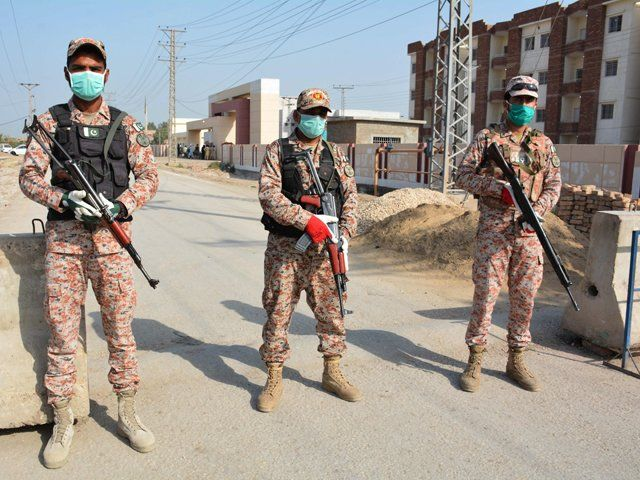gun: (20, 107, 184, 291), (481, 132, 588, 329), (271, 139, 372, 320)
uniform: (18, 80, 170, 436), (444, 97, 576, 403), (252, 108, 368, 389)
